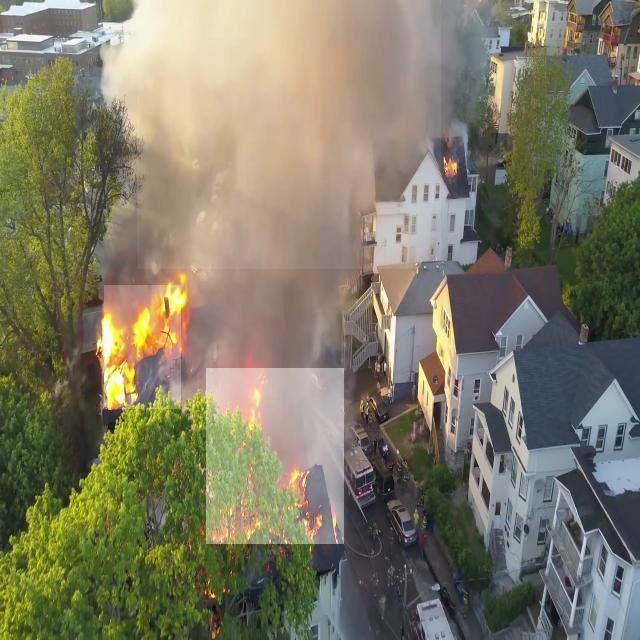Fire: (206, 368, 344, 544), (104, 285, 181, 409)
Smoke: (137, 0, 441, 269)
